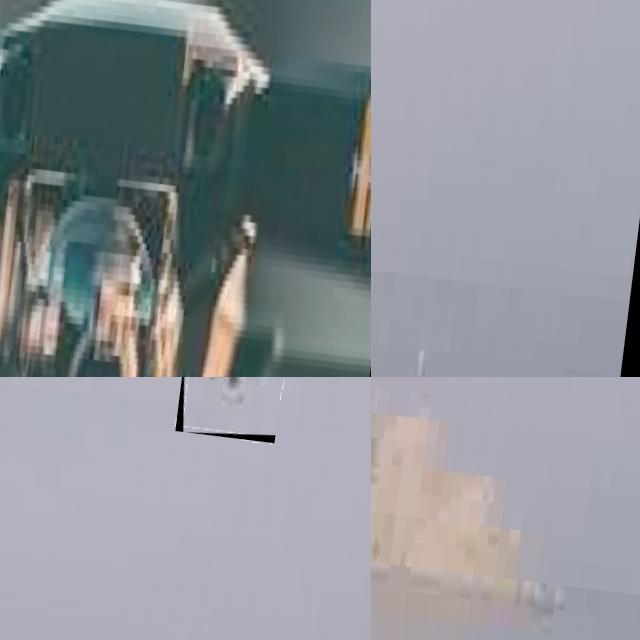drone: (0, 0, 371, 377), (174, 377, 283, 443)
